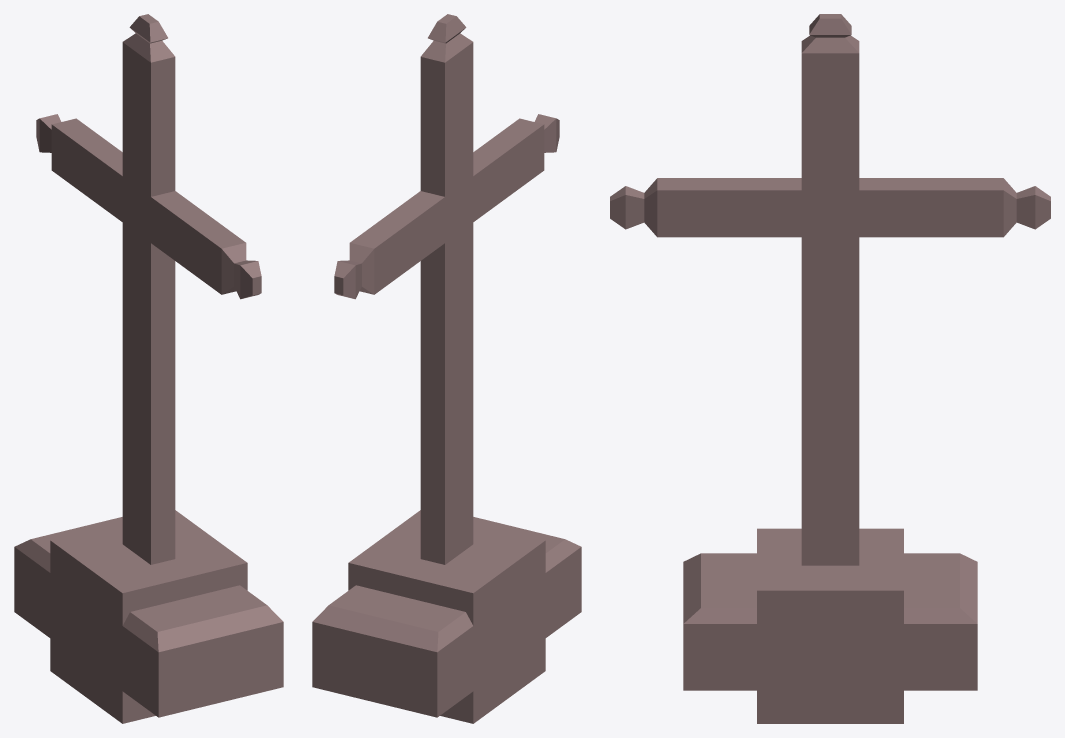
Rendered from John_Cross.fbx.
3 views of the same model, side by side, from view 1: azimuth 30°, elevation 25°; view 2: azimuth 150°, elevation 25°; view 3: azimuth 270°, elevation 25° (orthographic).
Parts seen in each view (by area): view 1: Cross; view 2: Cross; view 3: Cross.
Boxes of the visible parts, x1,y1,x2,y2 form: Cross: [14, 14, 283, 723]; Cross: [312, 14, 581, 723]; Cross: [610, 14, 1050, 723].
Size of the model in its own units: 200 by 1015 by 599.
